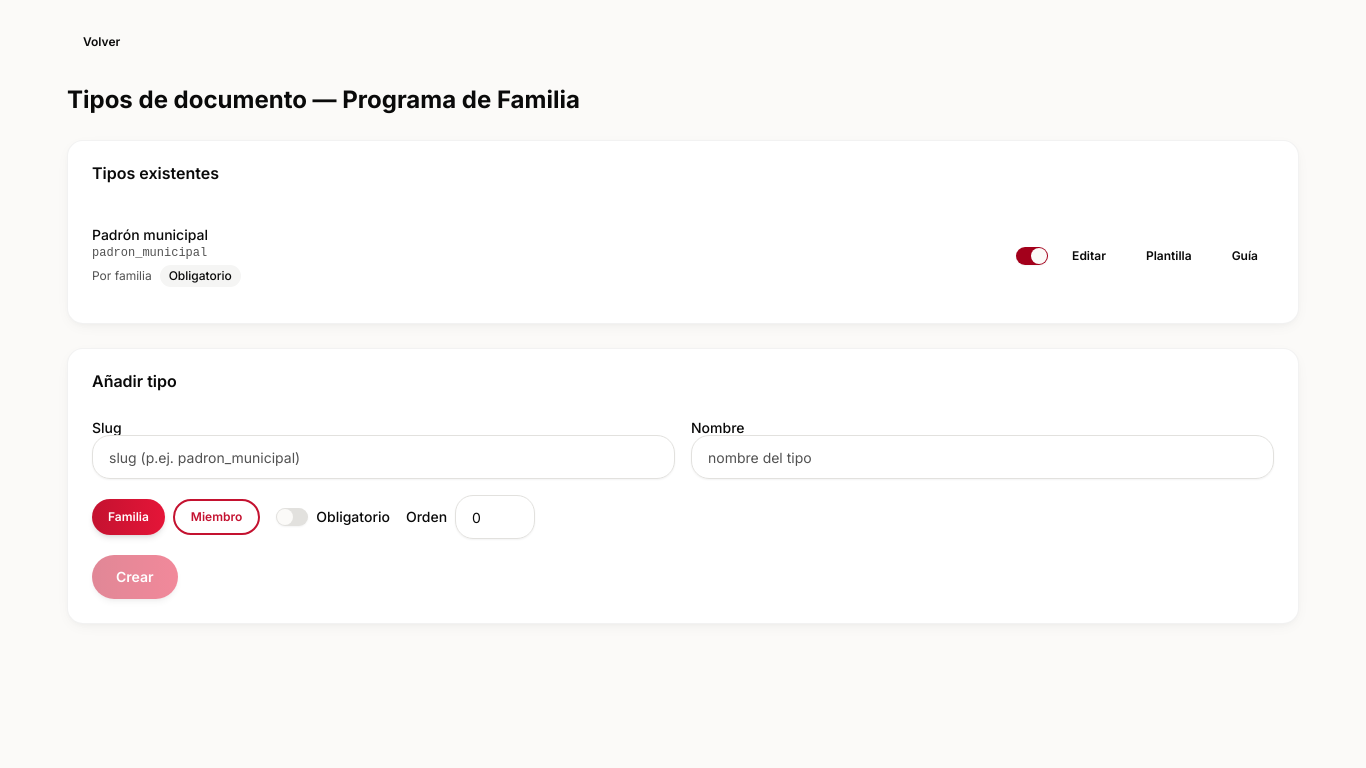
Test case: ProgramaTiposDocumentoPage › clicking 'Subir plantilla' opens the upload dialog with kind=template context
Expected: the text "Padrón municipal" is shown, [92,226,208,243]
Click the button with aria-label "Subir plantilla de Padrón municipal".
click(1169, 256)  # box [1130,238,1208,274]
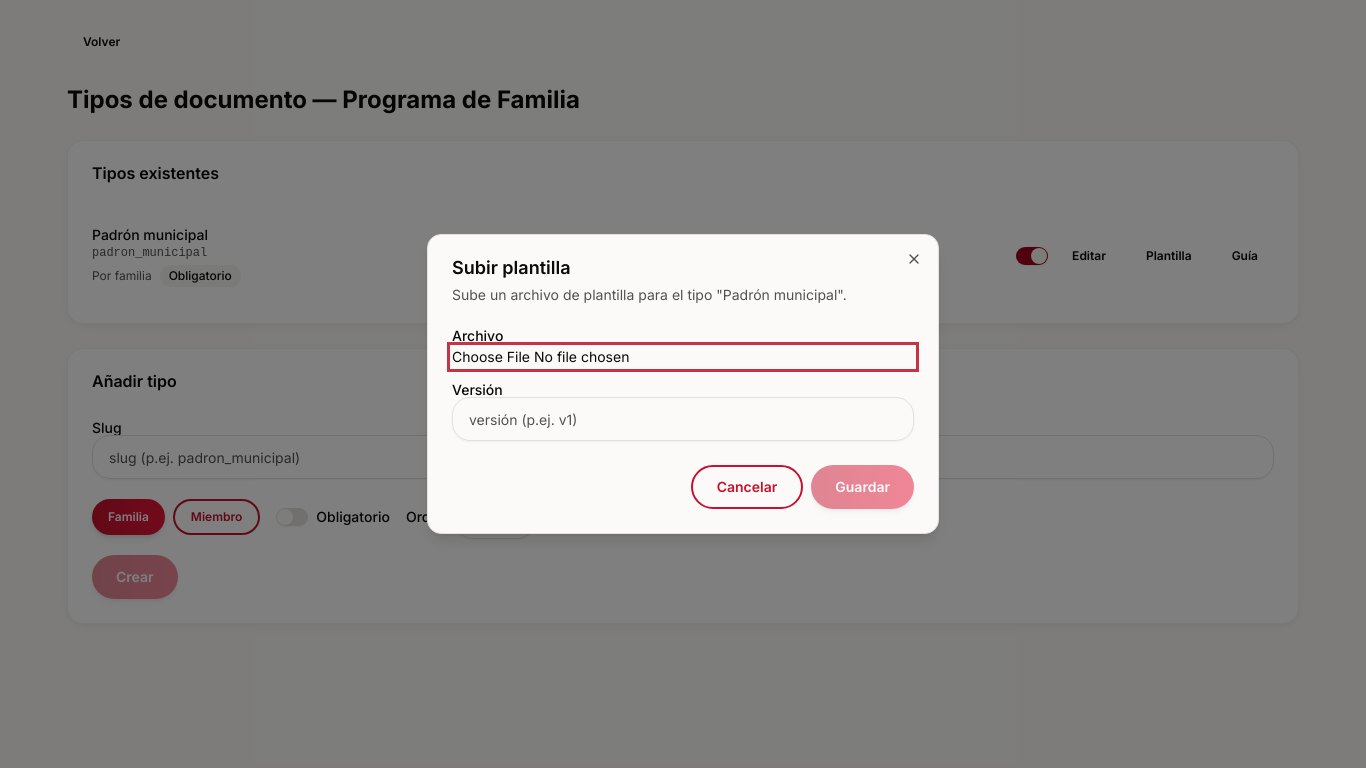
Result: the dialog is shown at [427,234,939,534]
Result: the dialog shows "plantilla" at [502,257,570,278]
